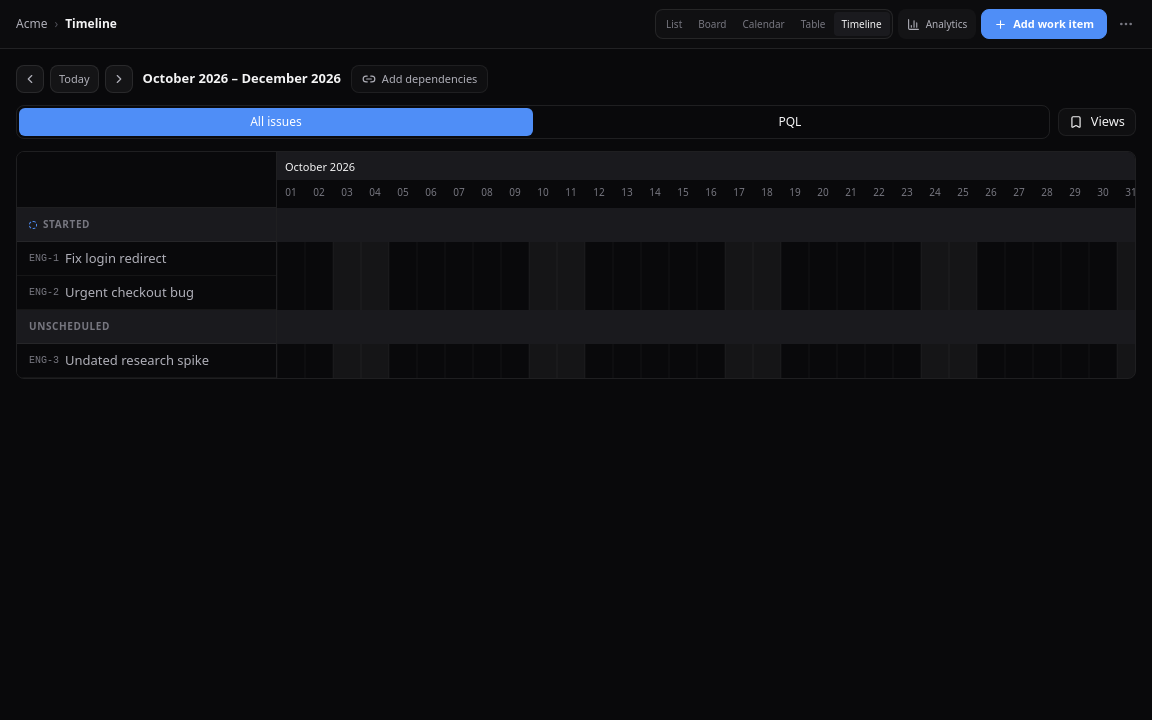
it: Gantt saved views (C110T2) › applying a PQL view enters PQL mode with the view's query applied and the window unchanged
Expected: the text "Fix login redirect" is shown, [65,249,166,268]
Expected: the text "Urgent checkout bug" is shown, [65,283,194,302]
Click the button with aria-label "Saved views". click: (1097, 122)
box: [1058,108,1136,136]
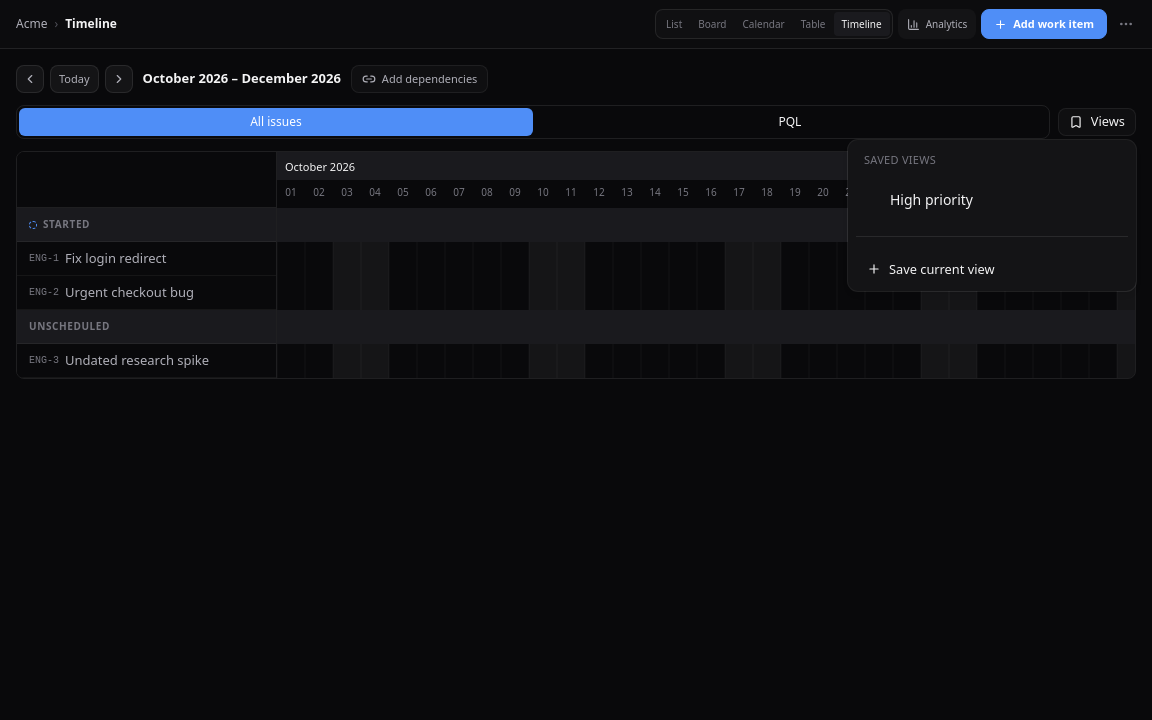
Expected: the button "Save current view" is shown, [856,255,1128,283]
Click the button titled "Apply view “High priority”". click: (932, 200)
box: [860,184,1004,216]
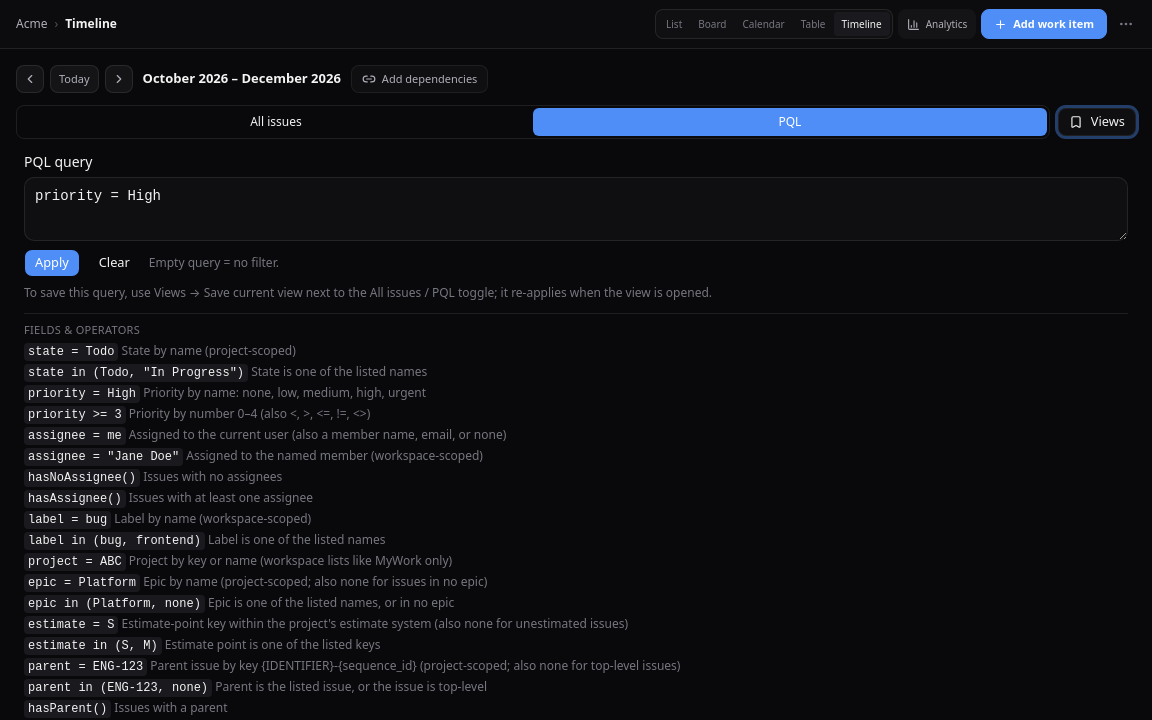
Expected: the button "Fix login redirect" is gone
Expected: the button "Undated research spike" is gone
Expected: the text "Unscheduled" is gone
